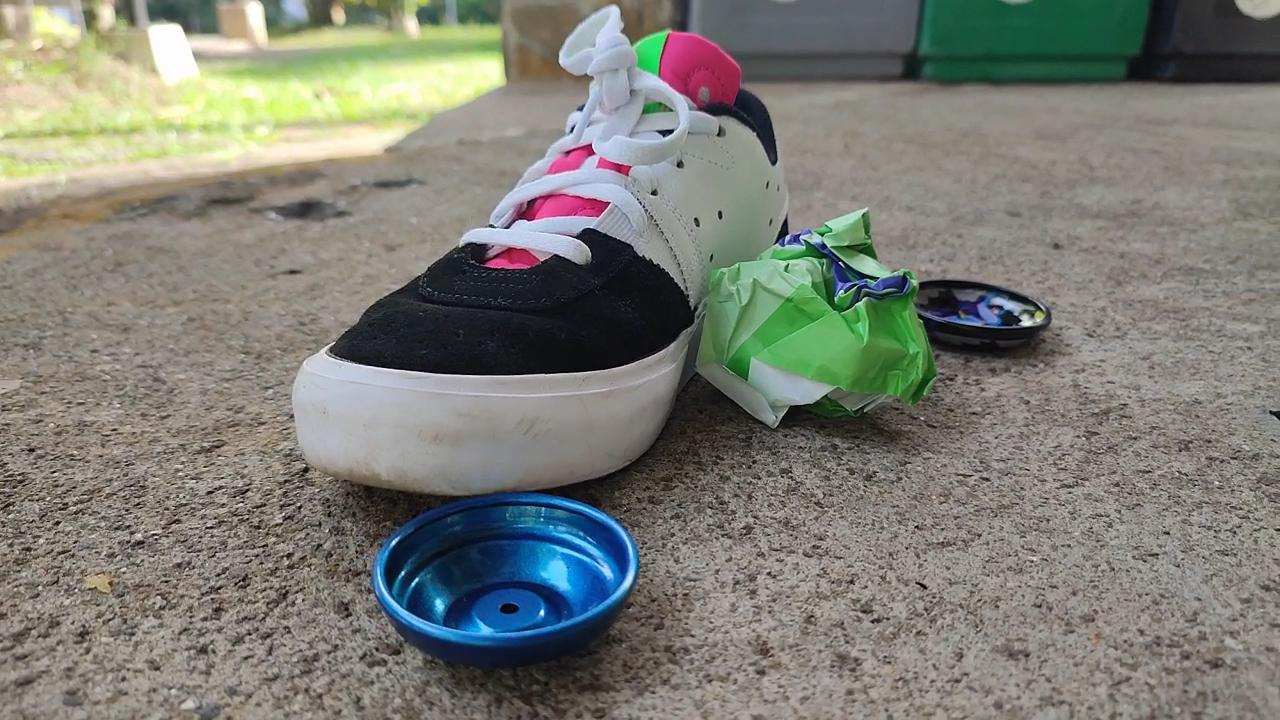Paper: (688, 182, 940, 458)
